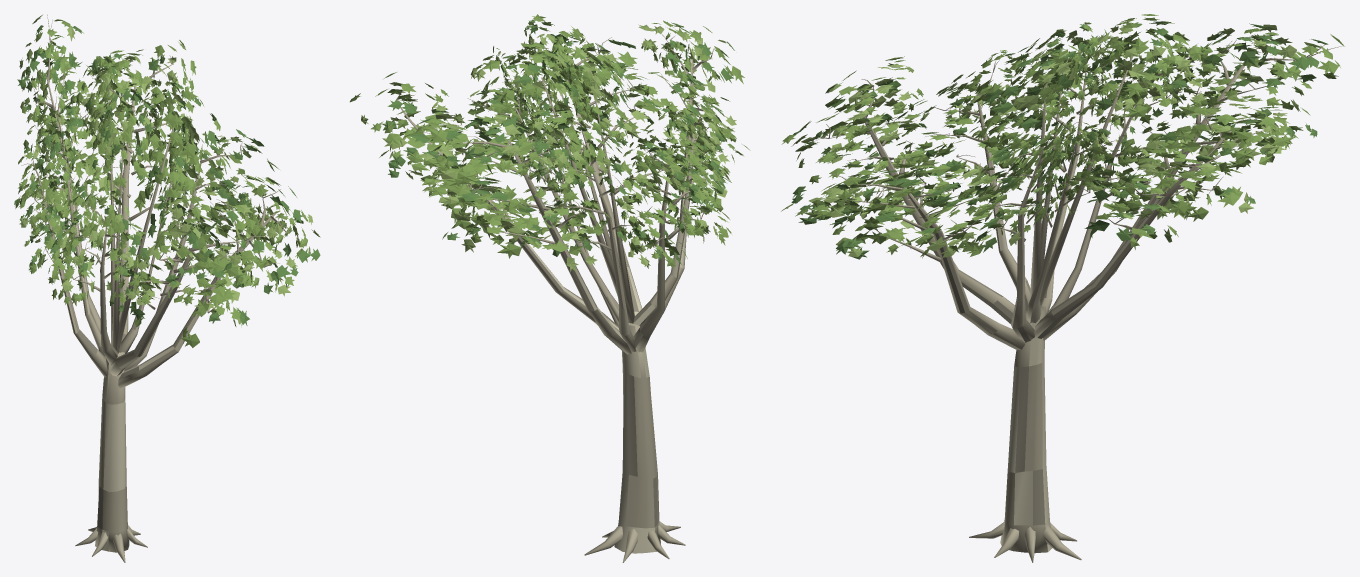
3 renders of one model, left to right at view 1: azimuth 30°, elevation 25°; view 2: azimuth 150°, elevation 25°; view 3: azimuth 270°, elevation 25°, orthographic. The views are drawn at different scales.
Visible parts, largest first — view 1: tree_plane_b_PlaneLeaf, tree_plane_b_PlaneBark, tree_plane_b_PlaneLeafDark, tree_plane_b_PlaneLeafLight, tree_plane_b_PlaneBarkPale, tree_plane_b_PlaneBarkBrown; view 2: tree_plane_b_PlaneLeaf, tree_plane_b_PlaneBark, tree_plane_b_PlaneLeafLight, tree_plane_b_PlaneLeafDark, tree_plane_b_PlaneBarkPale, tree_plane_b_PlaneBarkBrown; view 3: tree_plane_b_PlaneLeaf, tree_plane_b_PlaneBark, tree_plane_b_PlaneLeafLight, tree_plane_b_PlaneLeafDark, tree_plane_b_PlaneBarkPale, tree_plane_b_PlaneBarkBrown.
Boxes of the visible parts, box(x1,y1,x2,y2) form: tree_plane_b_PlaneLeaf: box(15, 15, 310, 347); tree_plane_b_PlaneBark: box(21, 14, 293, 562); tree_plane_b_PlaneLeafDark: box(14, 25, 320, 326); tree_plane_b_PlaneLeafLight: box(19, 26, 320, 327); tree_plane_b_PlaneBarkPale: box(41, 75, 275, 551); tree_plane_b_PlaneBarkBrown: box(69, 172, 176, 529); tree_plane_b_PlaneLeaf: box(350, 14, 750, 269); tree_plane_b_PlaneBark: box(395, 34, 721, 562); tree_plane_b_PlaneLeafLight: box(361, 24, 736, 272); tree_plane_b_PlaneLeafDark: box(382, 16, 734, 264); tree_plane_b_PlaneBarkPale: box(428, 105, 694, 553); tree_plane_b_PlaneBarkBrown: box(492, 69, 690, 527); tree_plane_b_PlaneLeaf: box(781, 14, 1344, 258); tree_plane_b_PlaneBark: box(810, 39, 1341, 562); tree_plane_b_PlaneLeafLight: box(781, 22, 1300, 257); tree_plane_b_PlaneLeafDark: box(791, 21, 1328, 259); tree_plane_b_PlaneBarkPale: box(865, 74, 1231, 551); tree_plane_b_PlaneBarkBrown: box(861, 66, 1244, 525).
Bounding box in the file's own units: 8.82 × 15.8 × 14.59.
